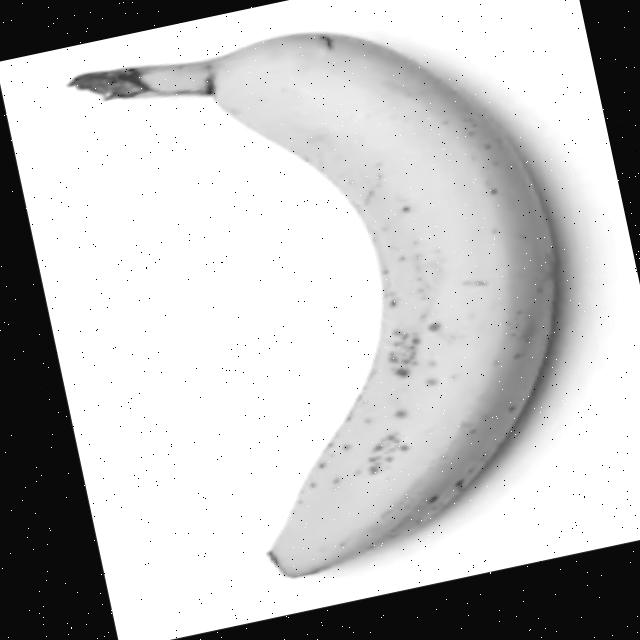Ripe: (118, 0, 612, 593)
